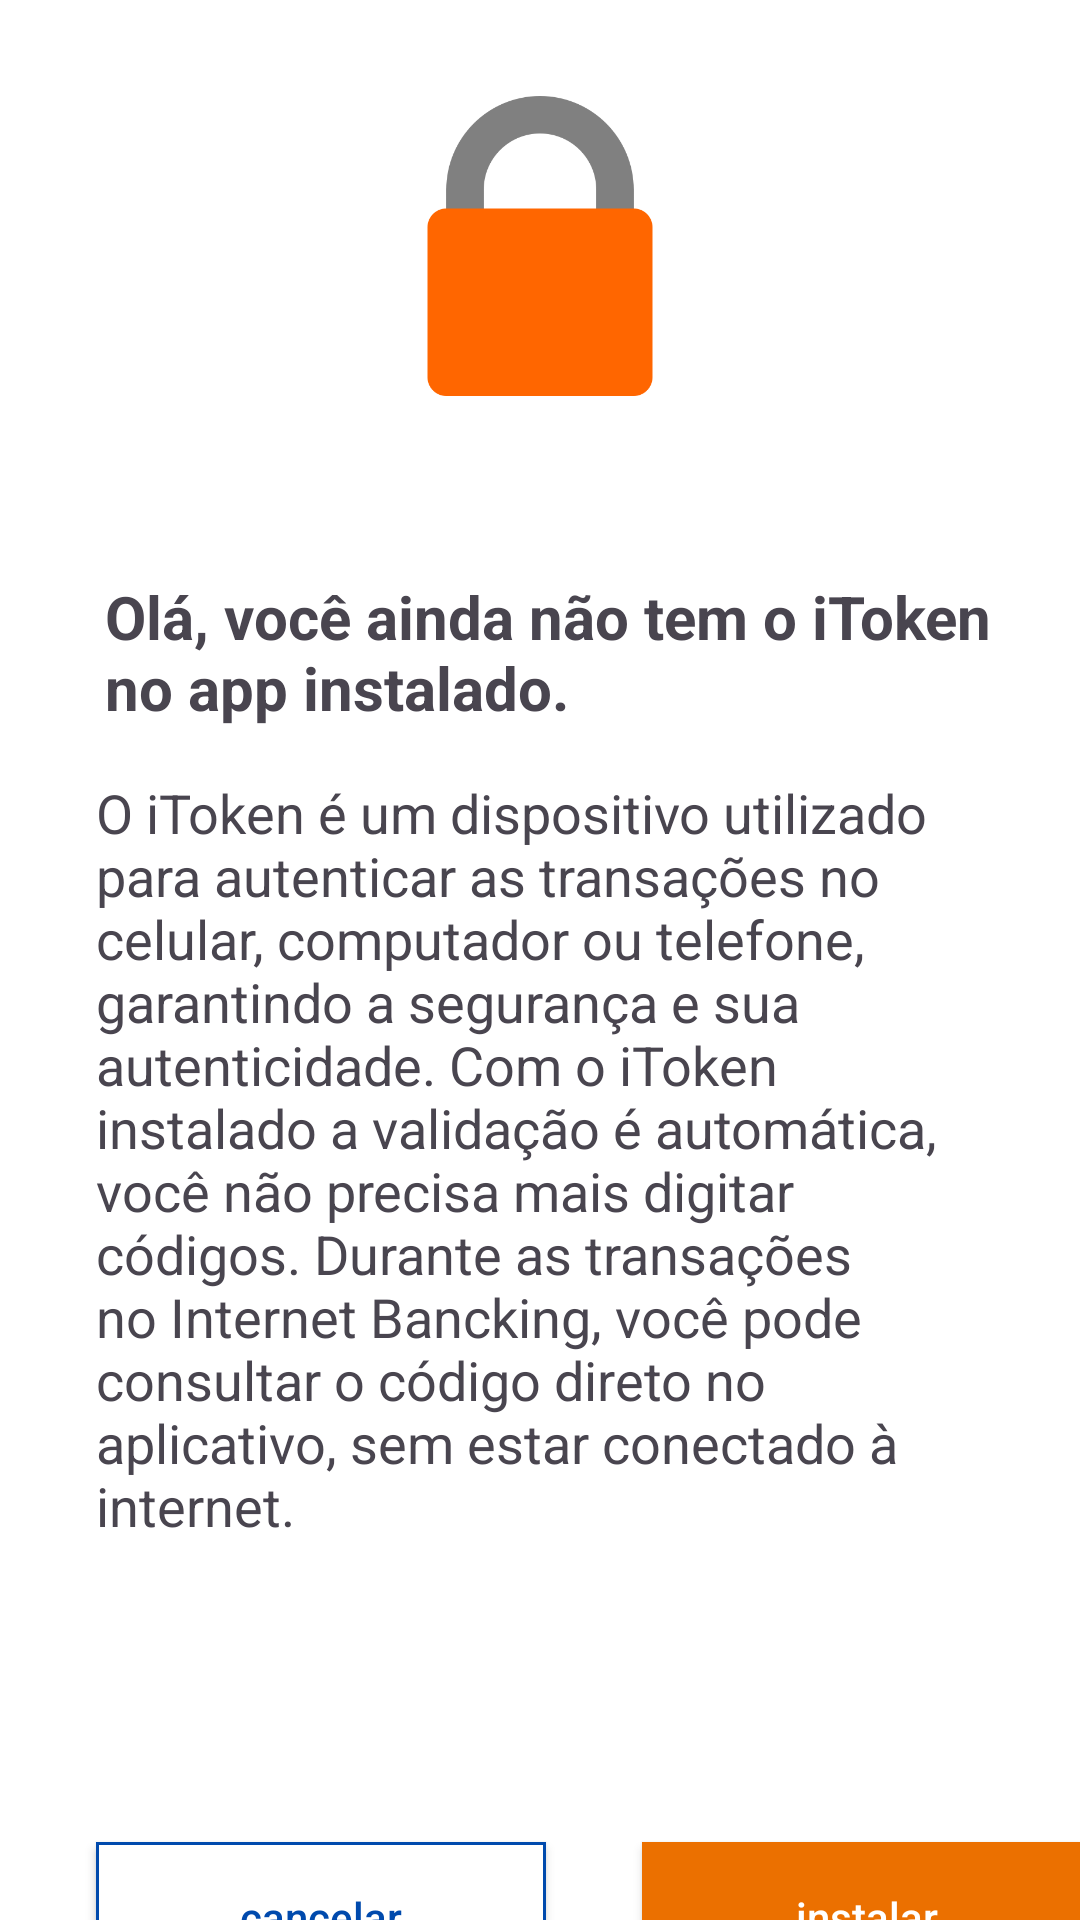

Named icons in this screenshot (1080px x 1920px) and their centers, point (x, y):
lock: point (540, 246)
